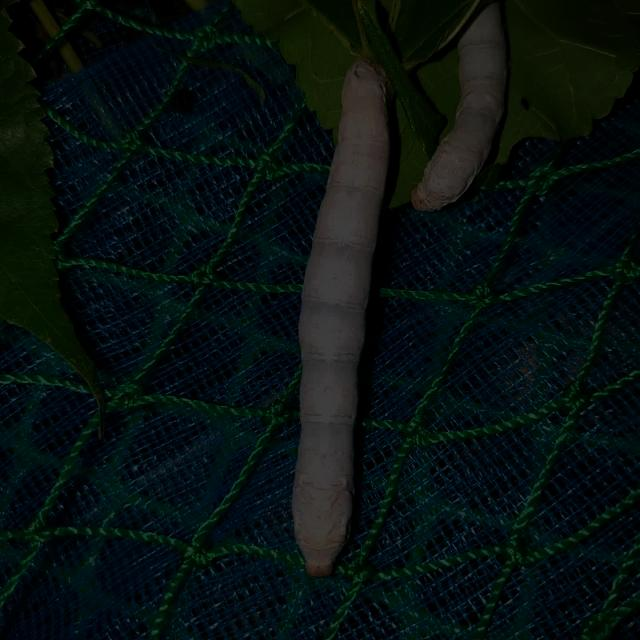Healthy: (276, 50, 406, 580)
